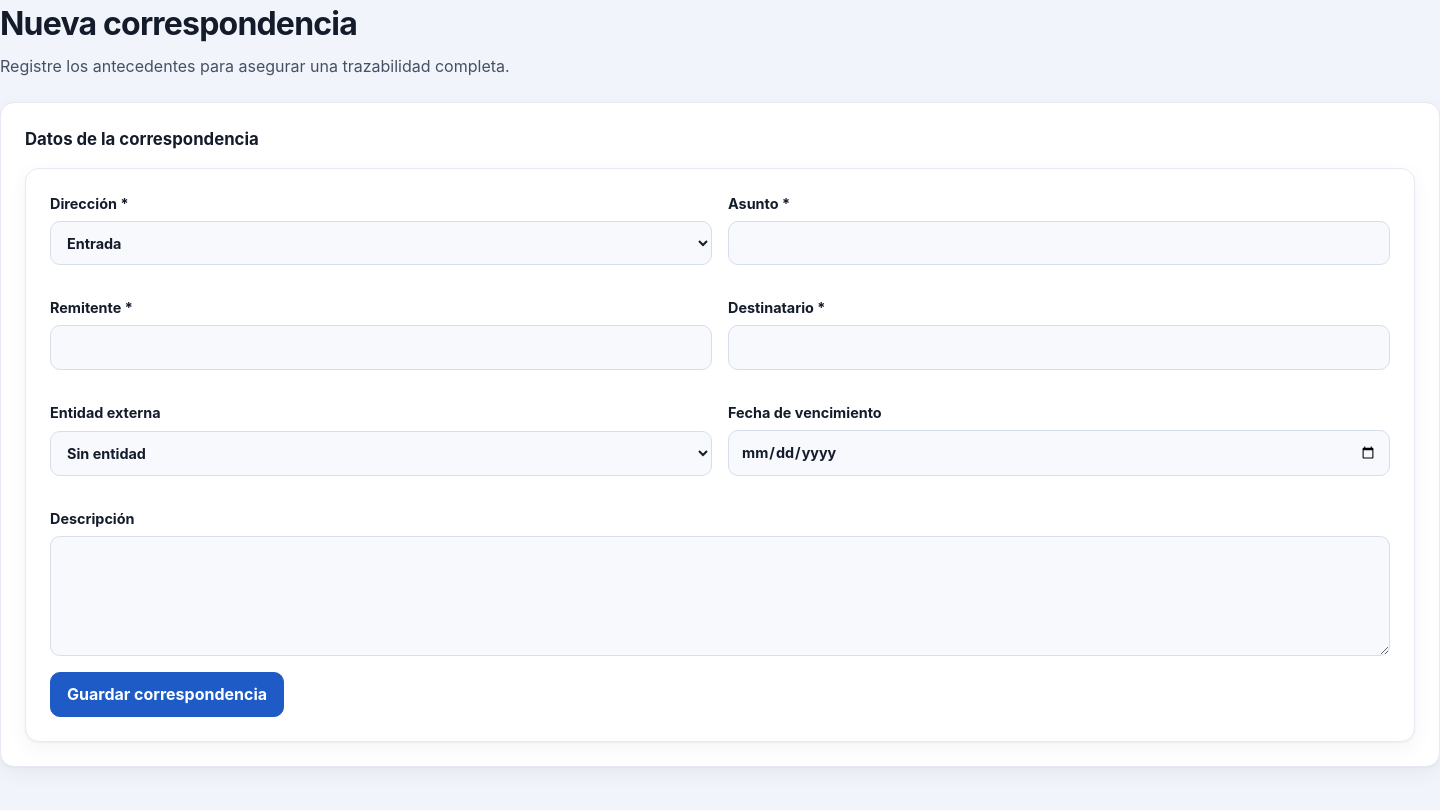
Test: CorrespondenceCreatePage › valida campos requeridos
The width and height of the screenshot is (1440, 810).
Click the button "Guardar correspondencia".
click(167, 694)  # box x1=50 y1=672 x2=284 y2=717
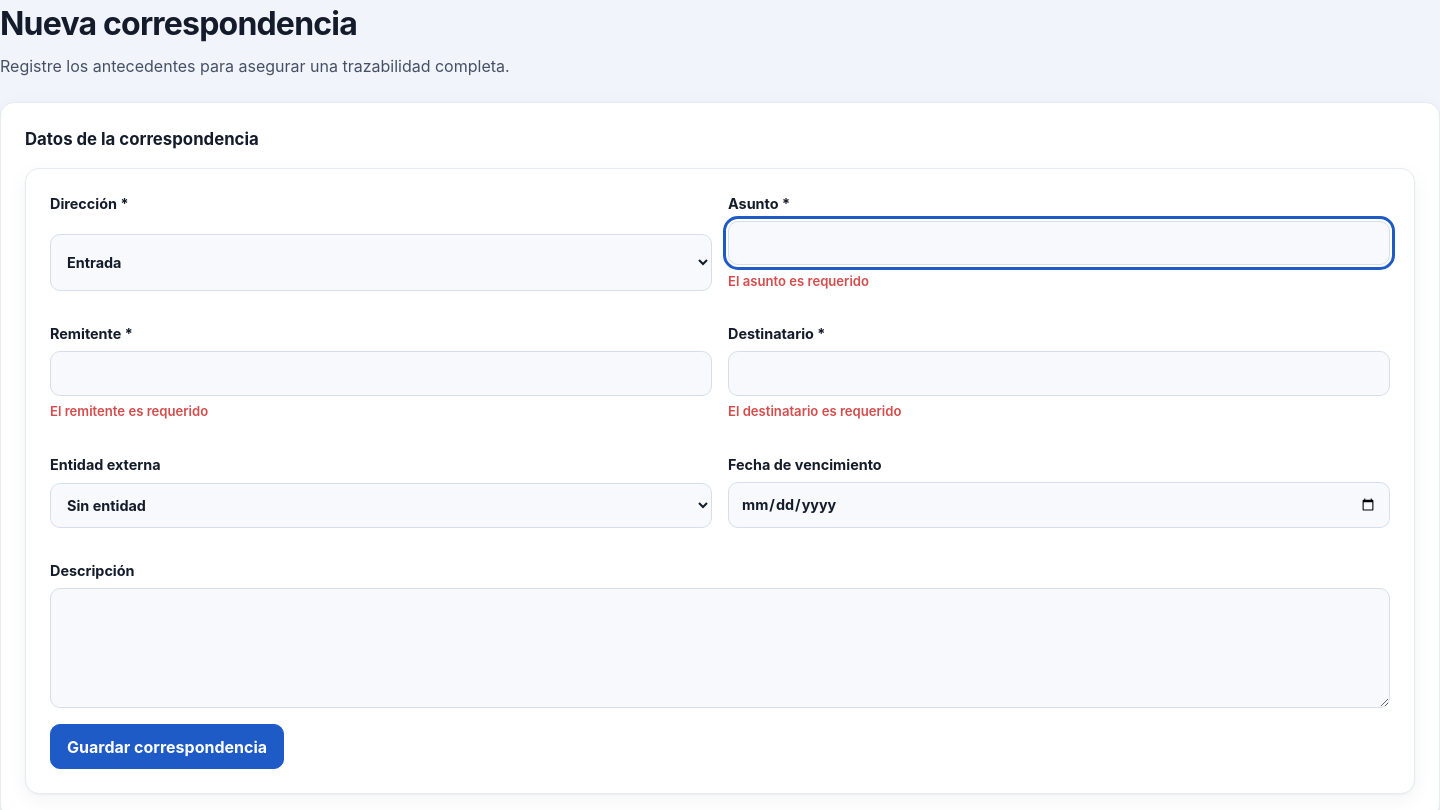
Now the text "El asunto es requerido" is shown, box x1=728 y1=272 x2=869 y2=288
Now the text "El remitente es requerido" is shown, box x1=50 y1=403 x2=208 y2=419
